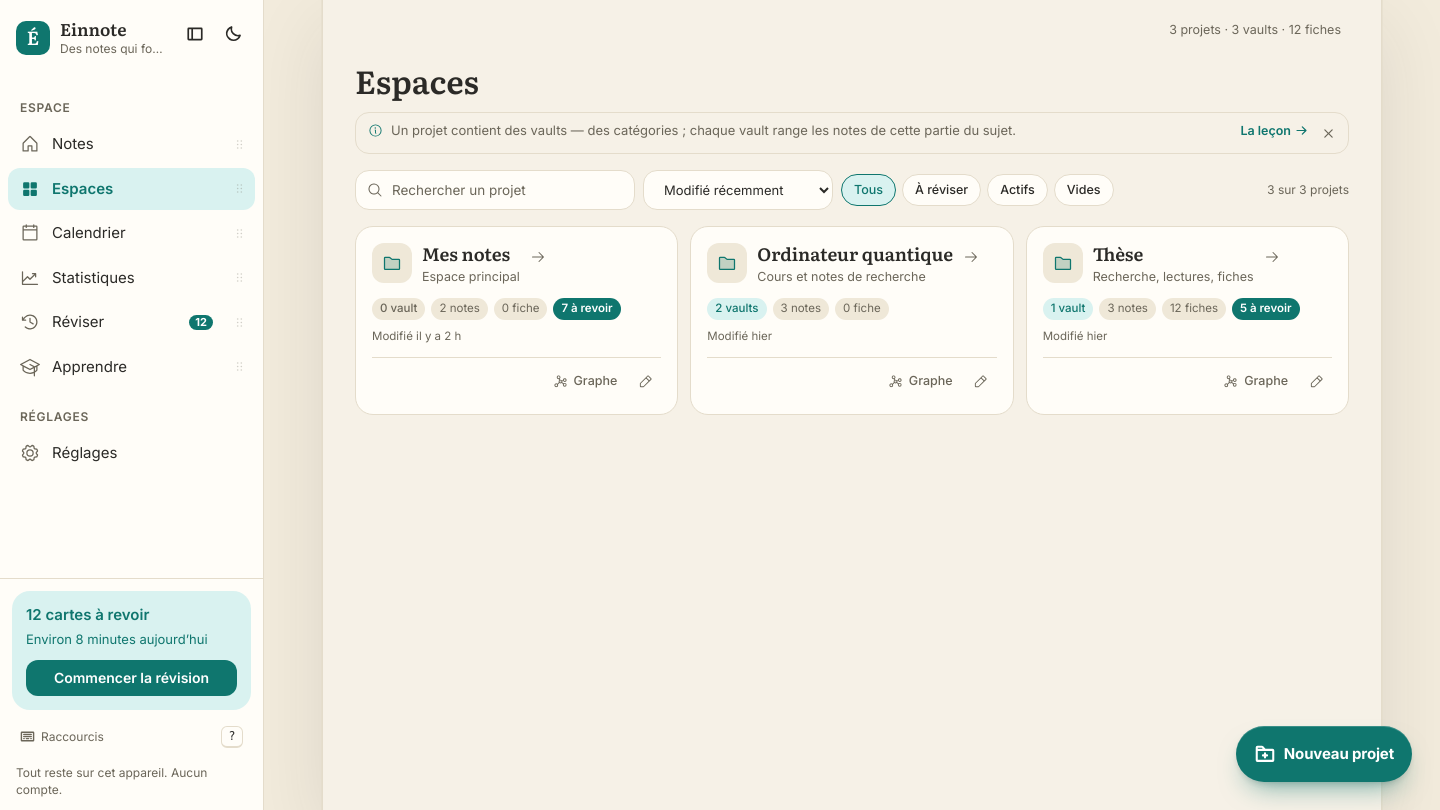
Test: Apprendre, centré sur Espaces › ne remontre jamais l’indication une fois vue
Step 1. Click the button named "Masquer l’indication" → [1328, 133], box 1316,121 -> 1340,145
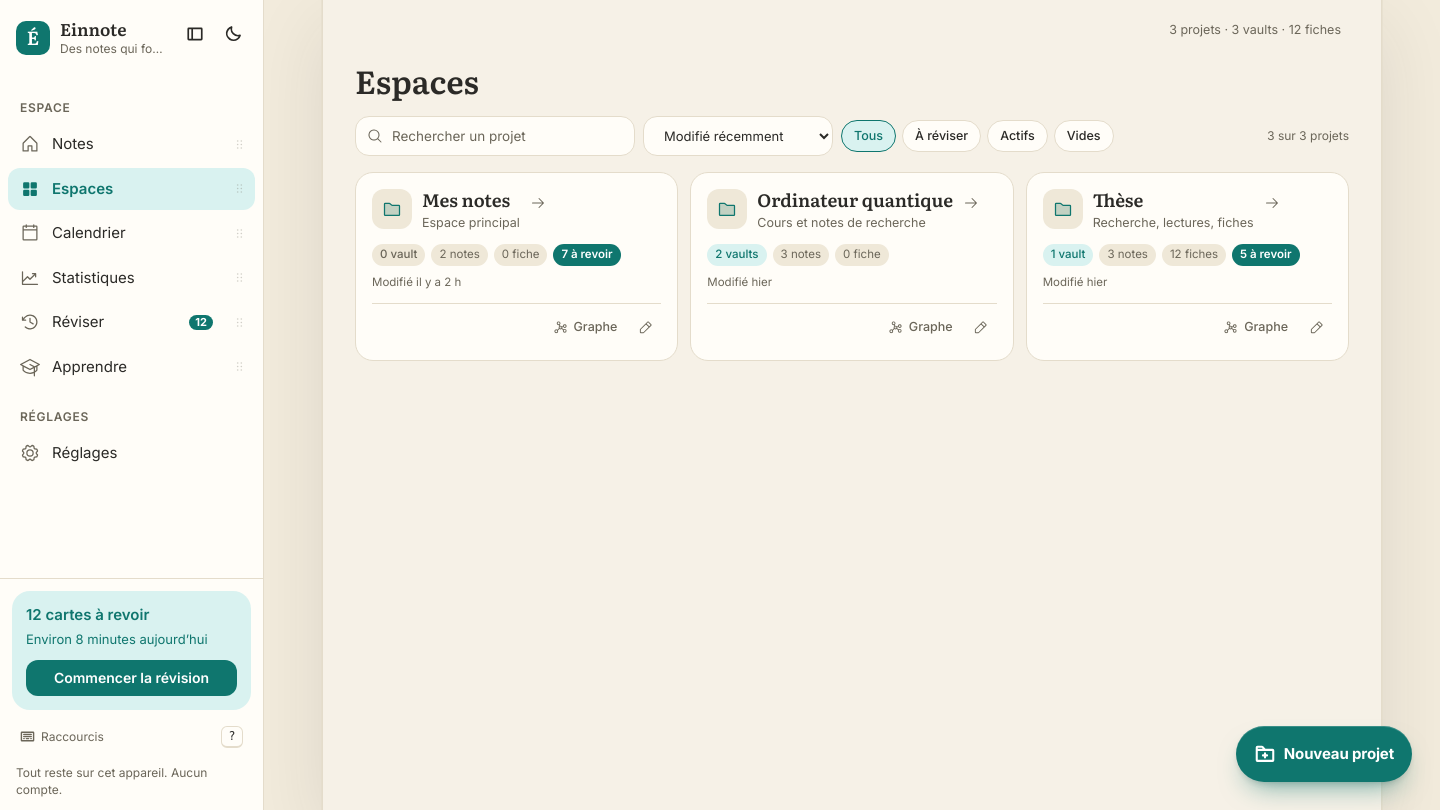
Result: the message is gone
